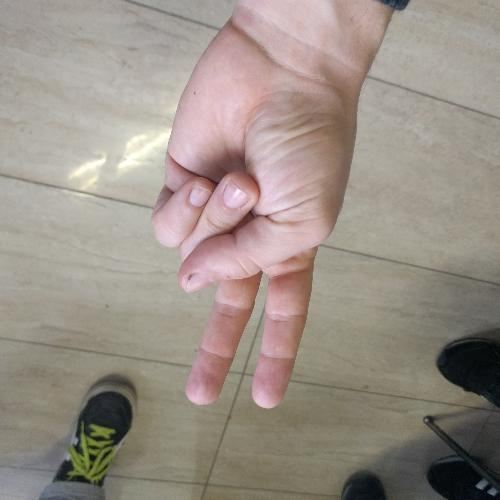scissors: (145, 30, 363, 411)
